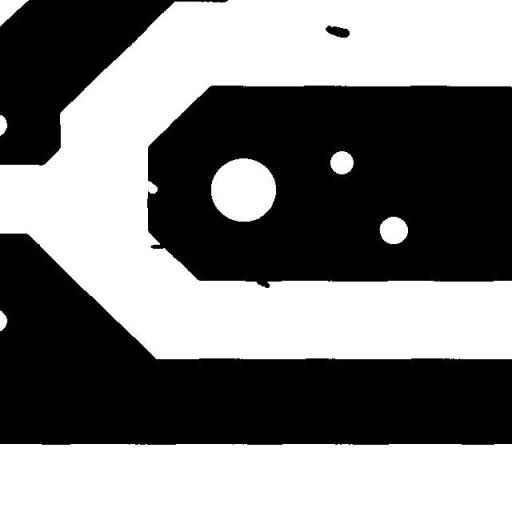copper: (318, 18, 356, 44)
mousebite: (134, 173, 165, 201)
pin-hole: (322, 143, 361, 182)
spur: (249, 270, 277, 296), (142, 236, 174, 256)
